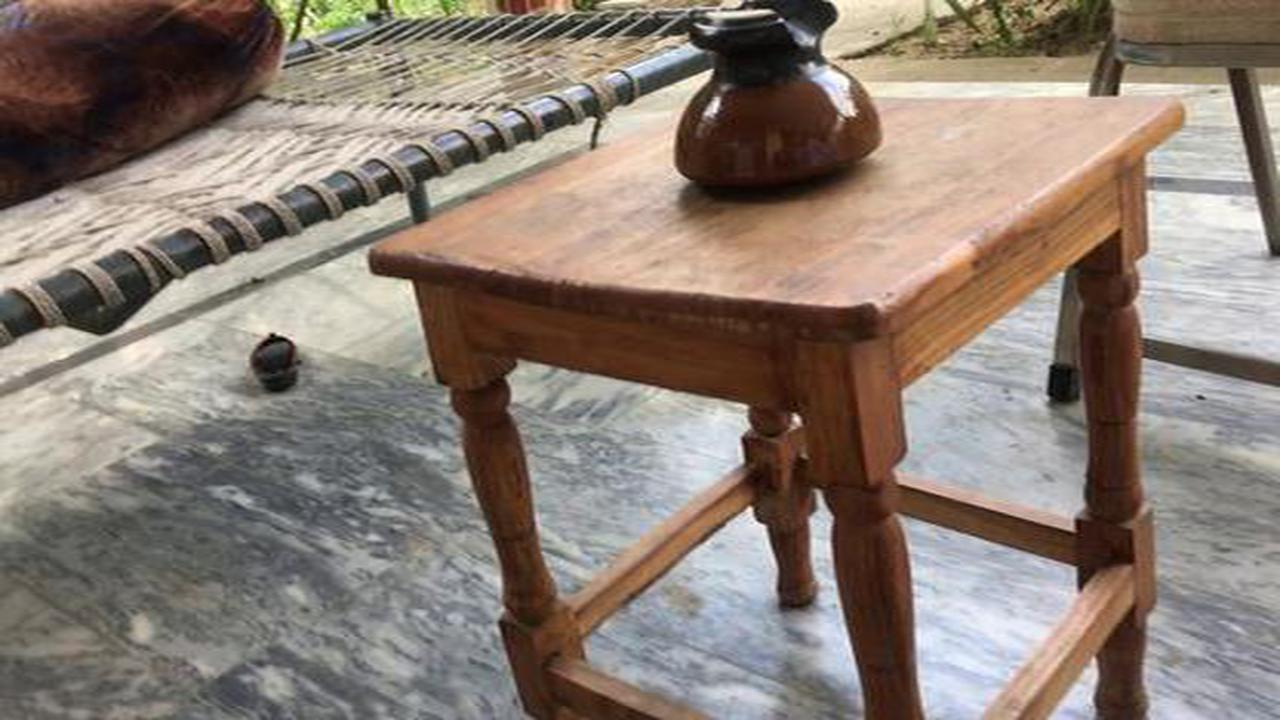insulator_pin: (656, 1, 899, 208)
